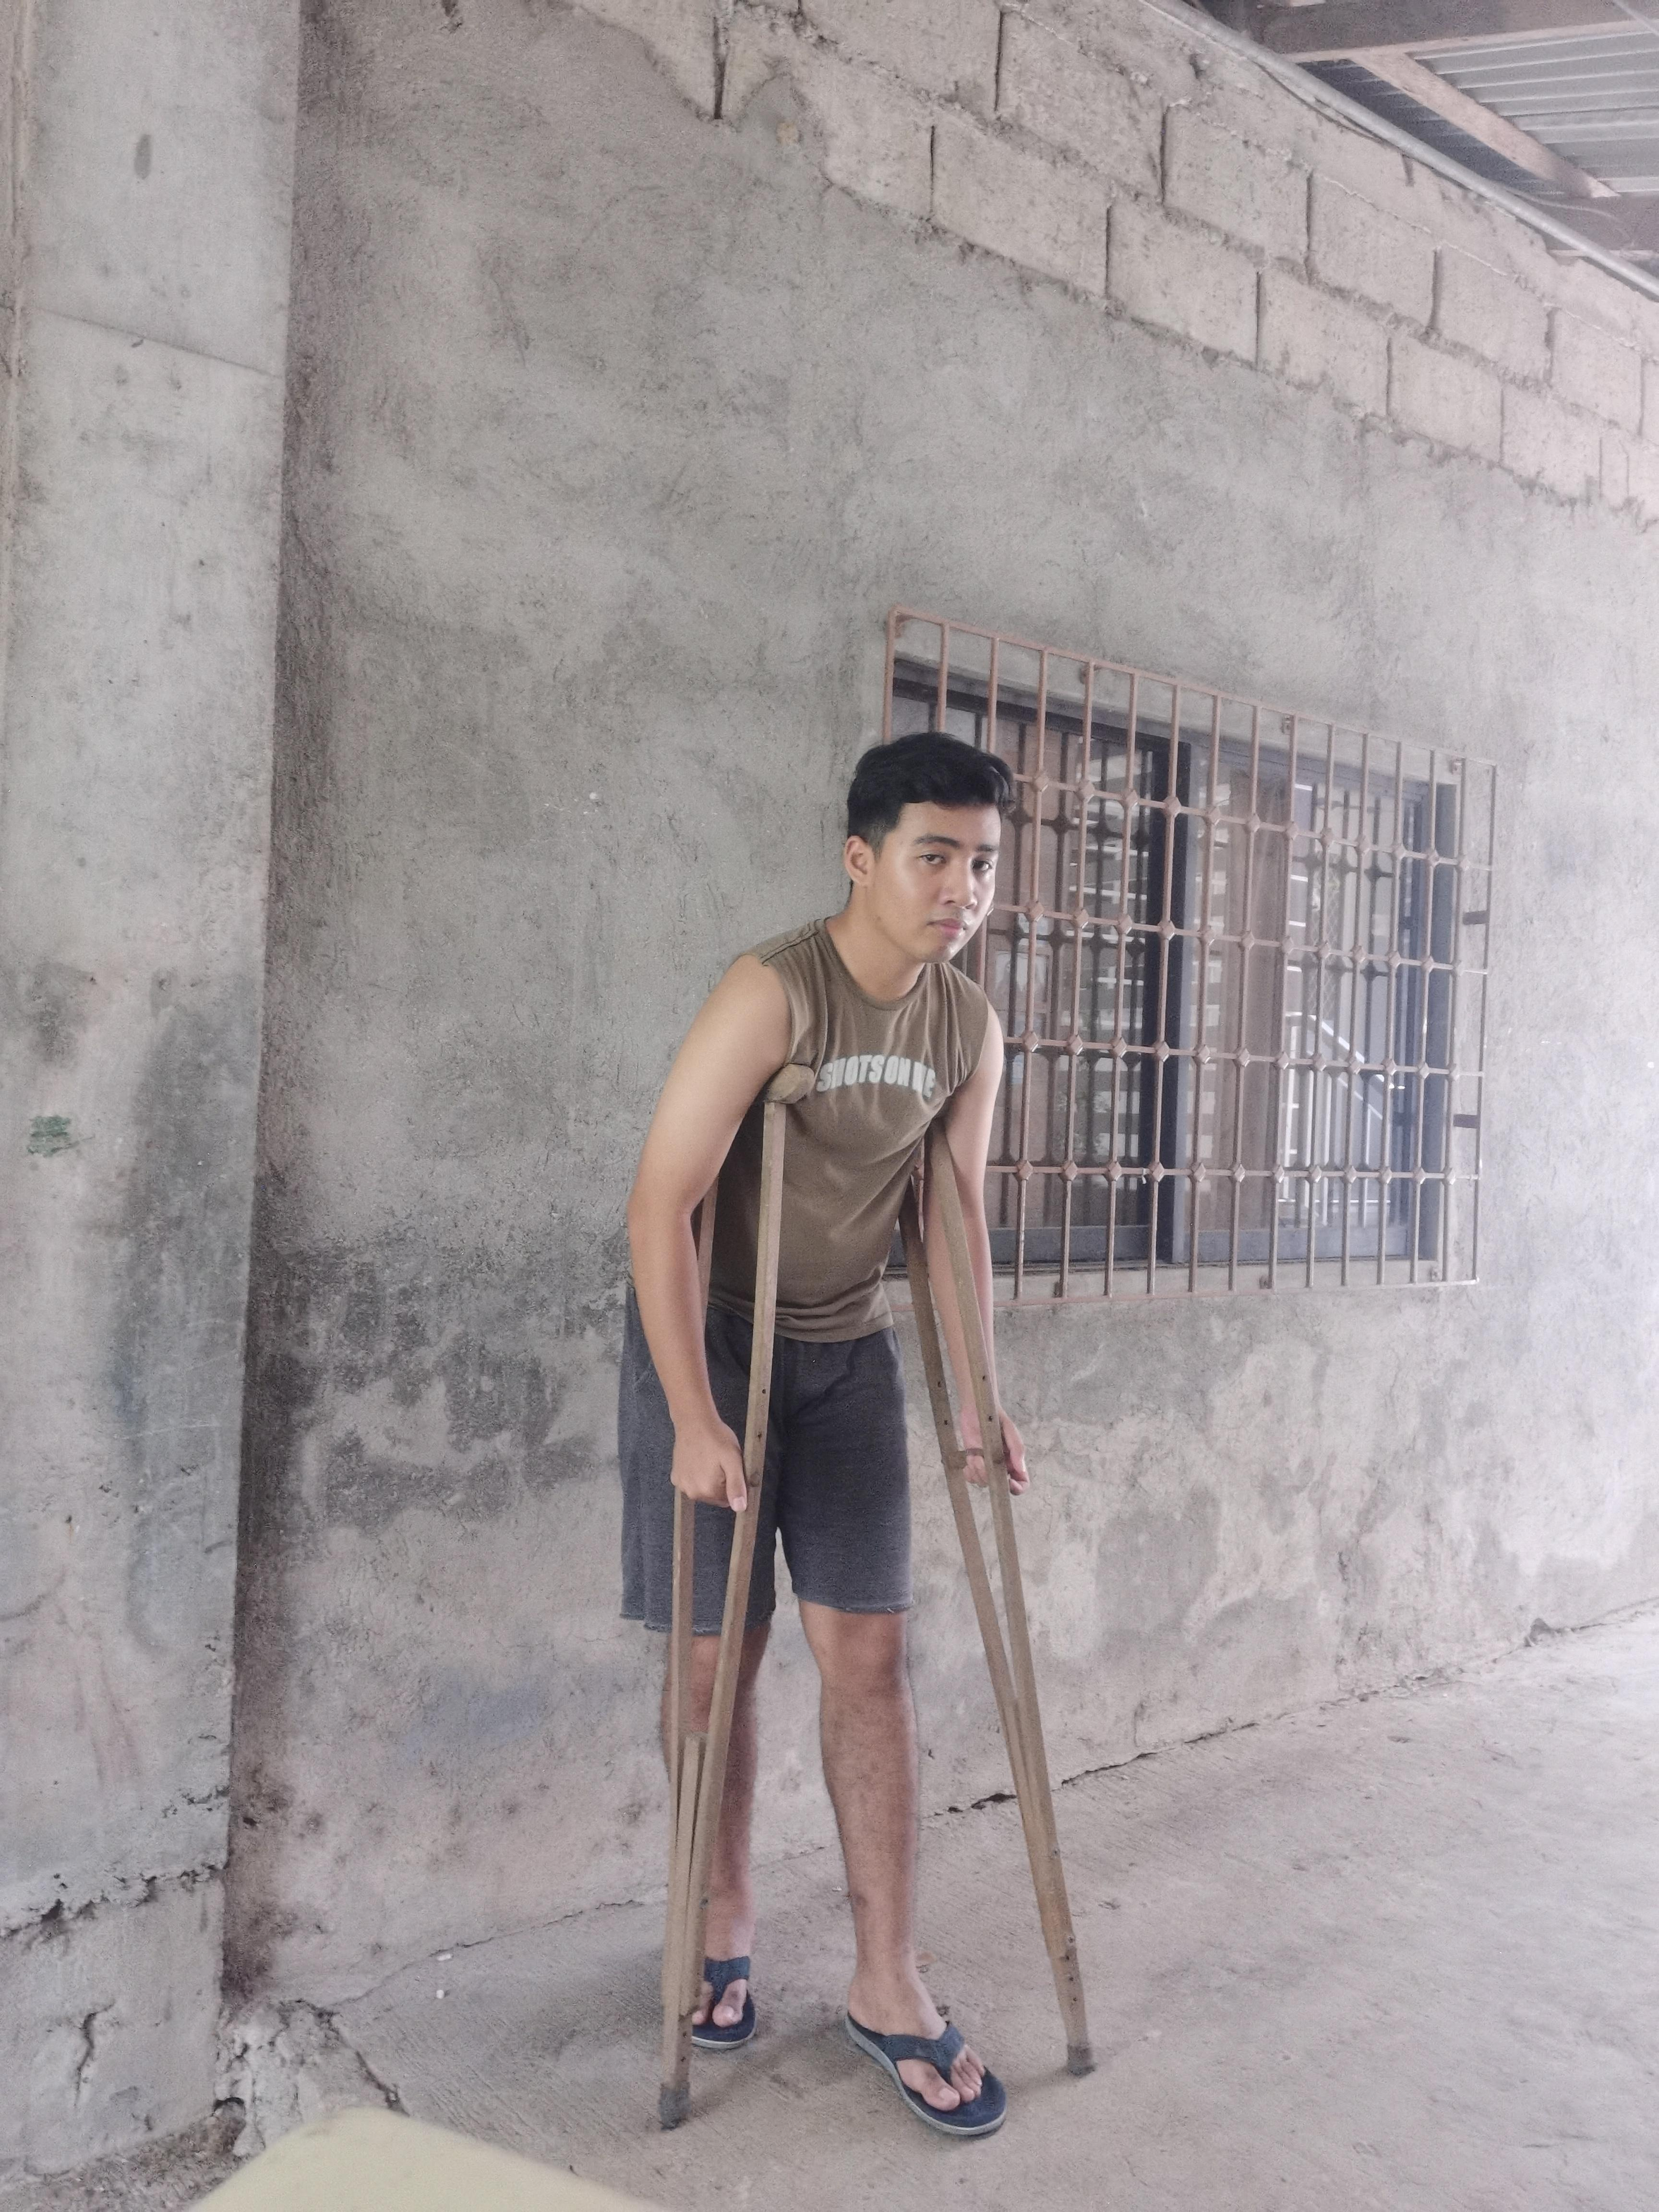crutches: (591, 711, 1121, 2146)
